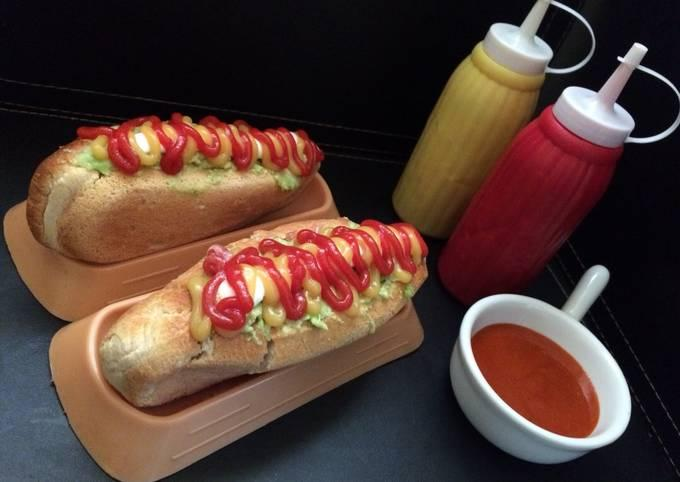Completos: (96, 205, 430, 407), (34, 107, 329, 274)
